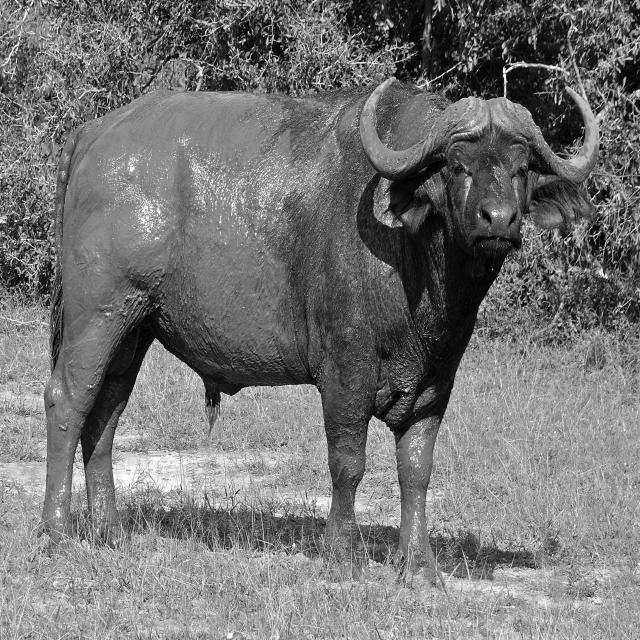Buffalo: (41, 74, 603, 586)
